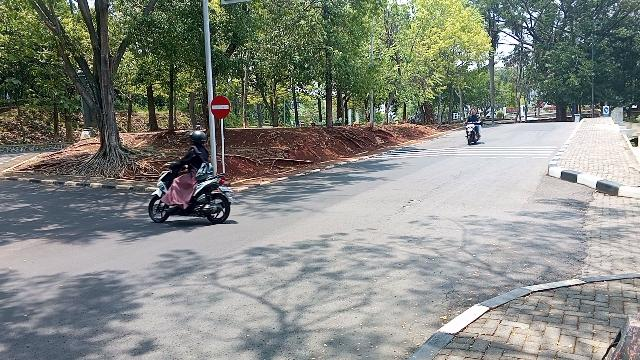helm: (191, 131, 208, 146)
motor: (150, 164, 237, 225), (465, 122, 482, 146)
non-helm: (472, 109, 476, 115)
